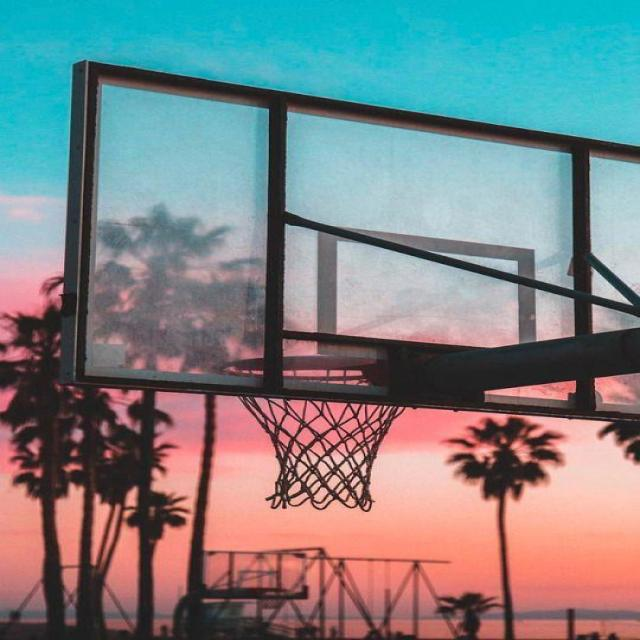hoop: (200, 345, 510, 527)
